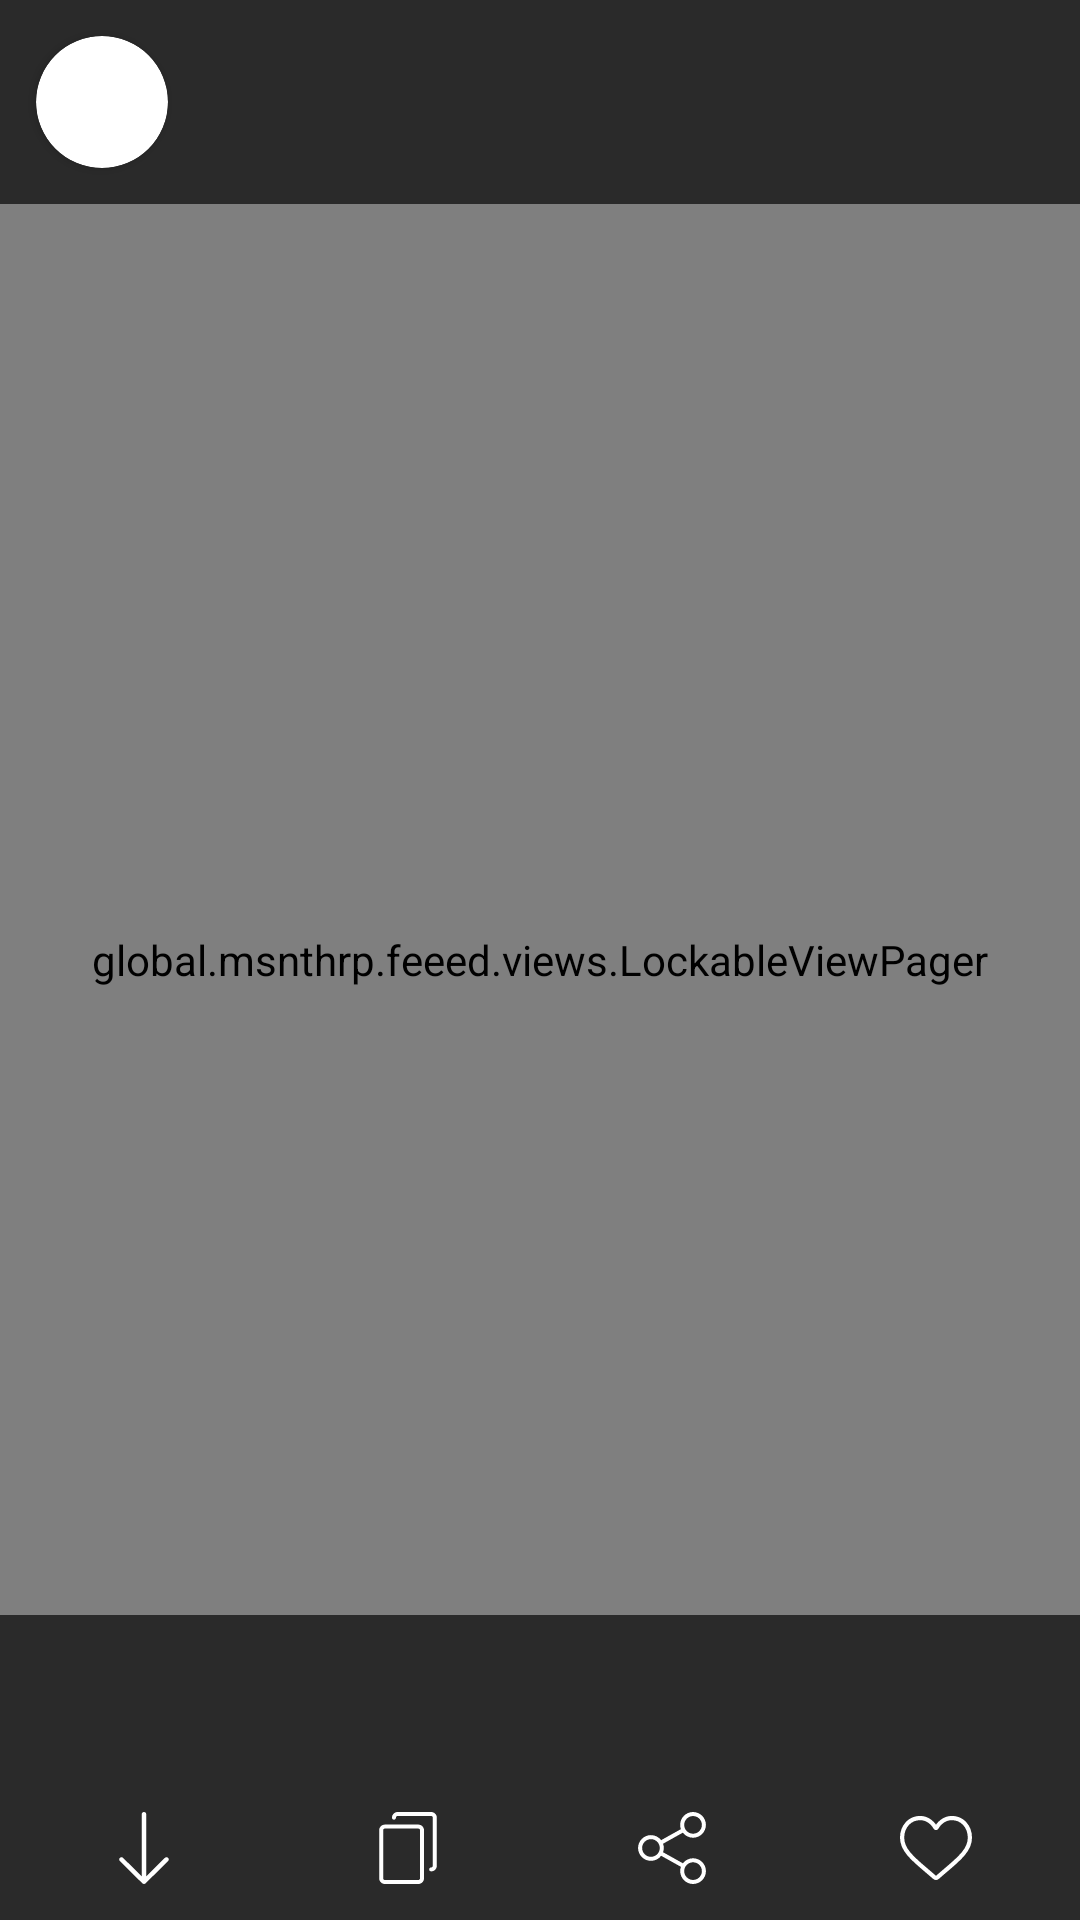

Where to tap for icons on this 1080 x 1920 app screen, as (x,y):
arrow download: (144,1848)
like: (936,1848)
share: (672,1848)
